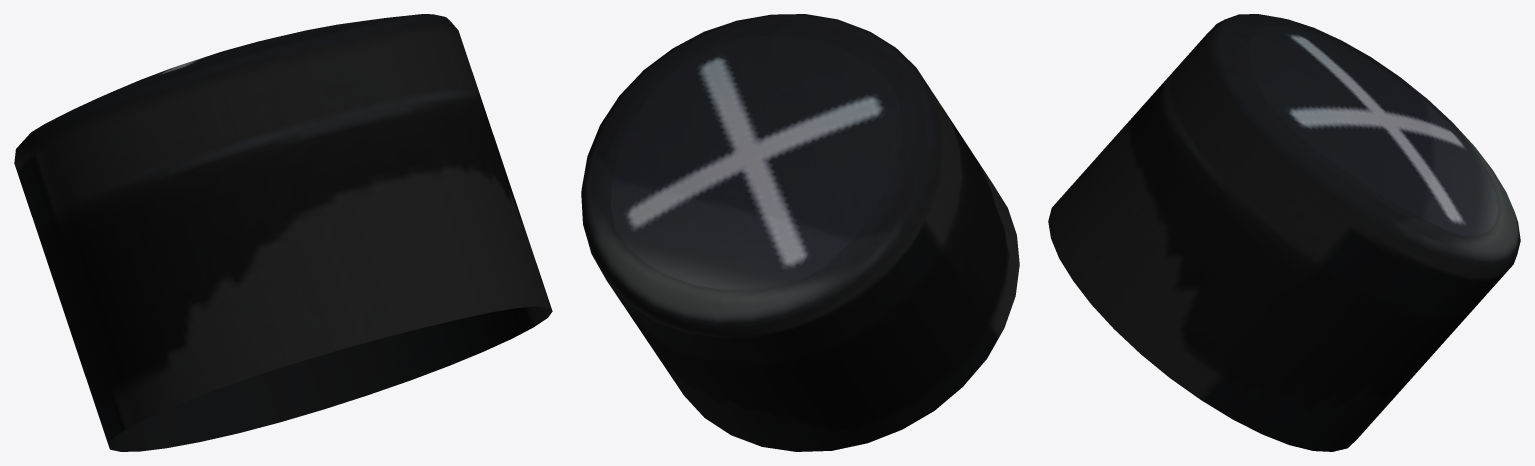
File: playstation_vr2_sense_right_cross.obj
3 renders of one model, left to right at view 1: azimuth 30°, elevation 25°; view 2: azimuth 150°, elevation 25°; view 3: azimuth 270°, elevation 25°, orthographic. The views are drawn at different scales.
Parts seen in each view (by area): view 1: mesh_cross_button_R; view 2: mesh_cross_button_R; view 3: mesh_cross_button_R.
Boxes of the visible parts, left/top/right/bottom form: mesh_cross_button_R: left=14, top=14, right=552, bottom=451; mesh_cross_button_R: left=581, top=14, right=1019, bottom=451; mesh_cross_button_R: left=1048, top=14, right=1520, bottom=451.
Size of the model in its own units: 0.00761 by 0.00832 by 0.00931.
Materials: 1 (1 with a texture image).
